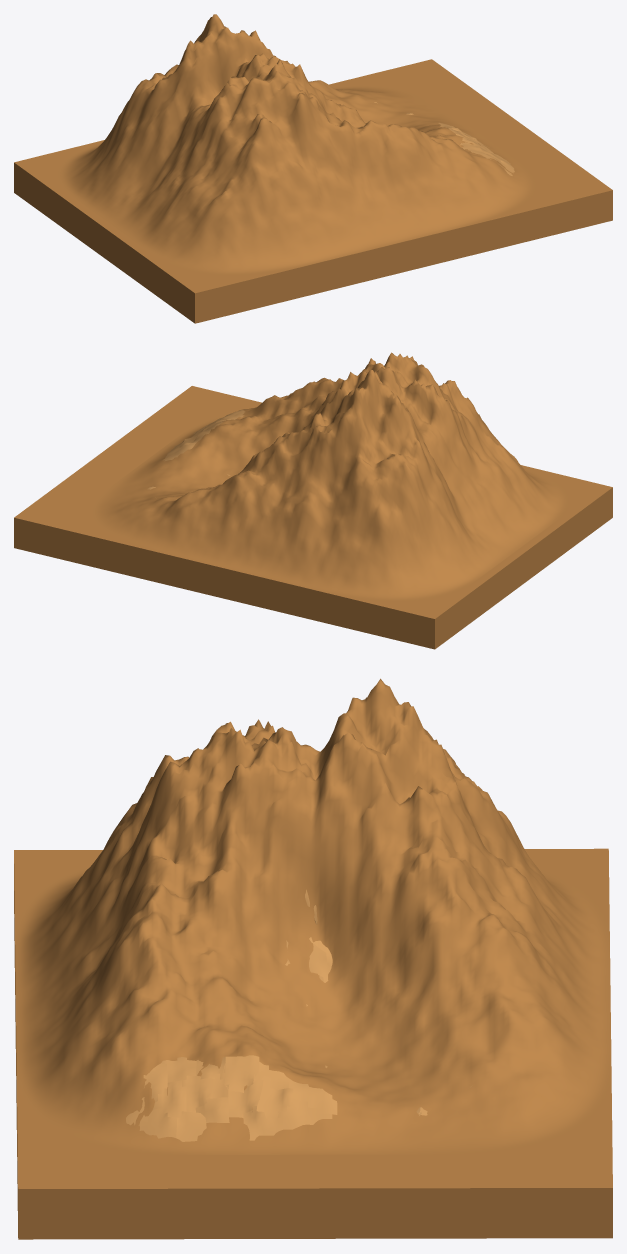
Rendered from Landslide_1.gltf.
The picture shows the model from 3 angles, top to bottom: view 1: azimuth 30°, elevation 25°; view 2: azimuth 150°, elevation 25°; view 3: azimuth 270°, elevation 25°; orthographic projection. The views are drawn at different scales.
Visible parts, largest first — view 1: Landscape, Cube; view 2: Landscape, Cube; view 3: Landscape, Cube, Landscape.033, Landscape.037, Landscape.042, Landscape.043, Landscape.030, Landscape.040, Landscape.038, Landscape.041, Landscape.034, Landscape.029.
Boxes of the visible parts, x1,y1,x2,y2 form: Landscape: (22,14,570,290); Cube: (14,59,612,323); Landscape: (56,352,604,616); Cube: (14,386,612,649); Landscape: (14,678,612,1155); Cube: (14,848,612,1239); Landscape.033: (182,1073,229,1112); Landscape.037: (220,1055,259,1092); Landscape.042: (288,1079,337,1114); Landscape.043: (277,1098,332,1129); Landscape.030: (153,1080,186,1117); Landscape.040: (256,1085,293,1118); Landscape.038: (228,1079,263,1117); Landscape.041: (243,1106,283,1140); Landscape.034: (176,1111,206,1141); Landscape.029: (139,1107,177,1138).
Bounding box in the file's own units: 28.03 × 12.54 × 20.85.
